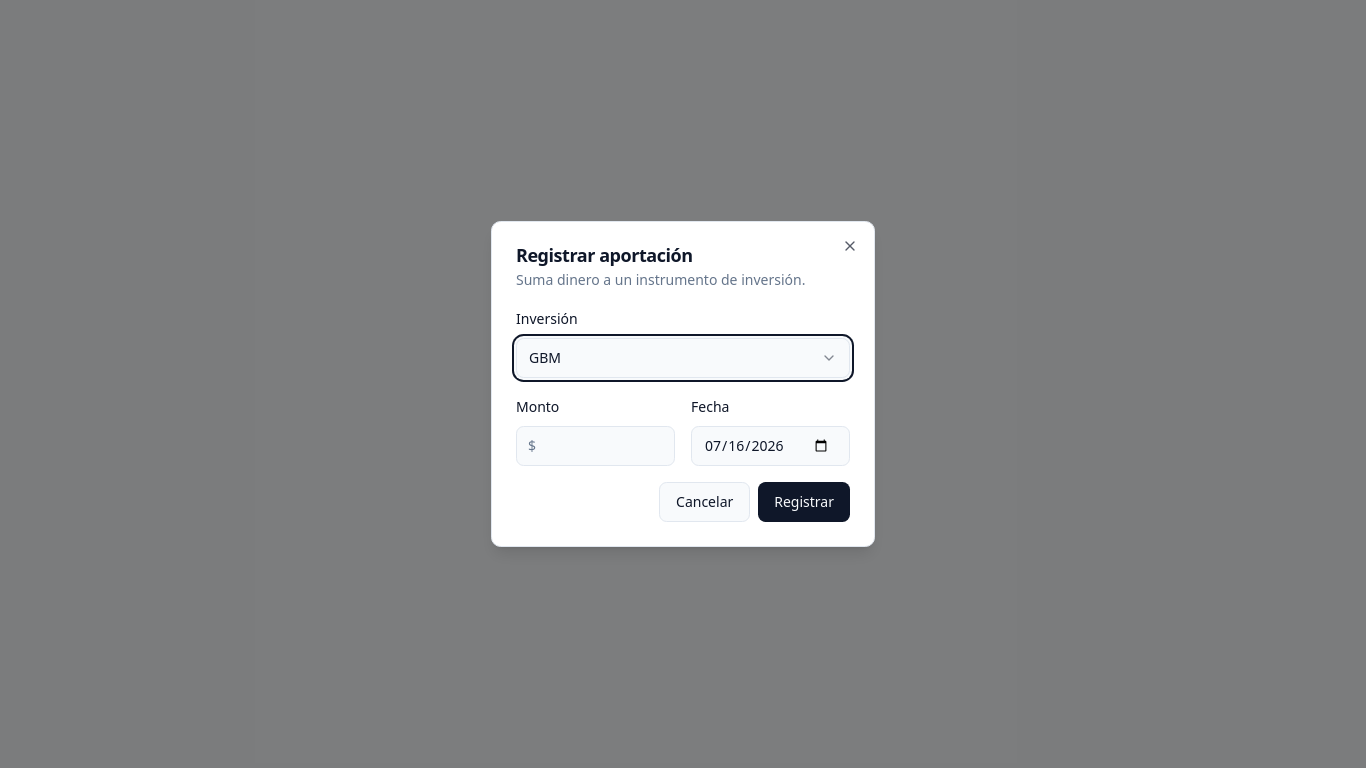
Test: ContributionForm validation › blocks submit when no amount is entered
Click the button "Registrar". click: (804, 502)
box: [758,482,850,522]
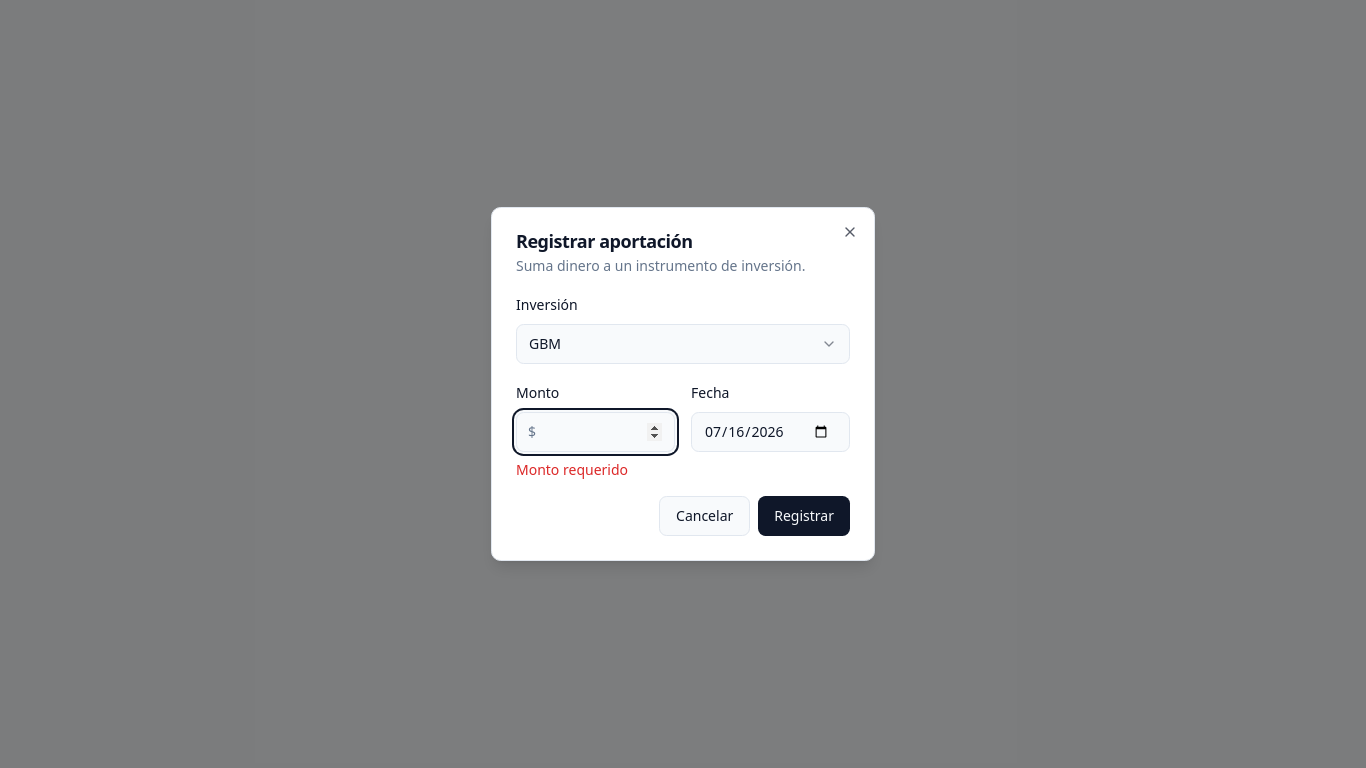
Result: the text "Monto requerido" is shown at [516,460,628,479]
